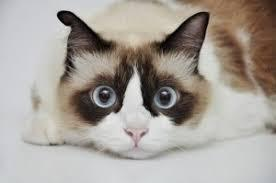ragdoll: (56, 1, 207, 183)
